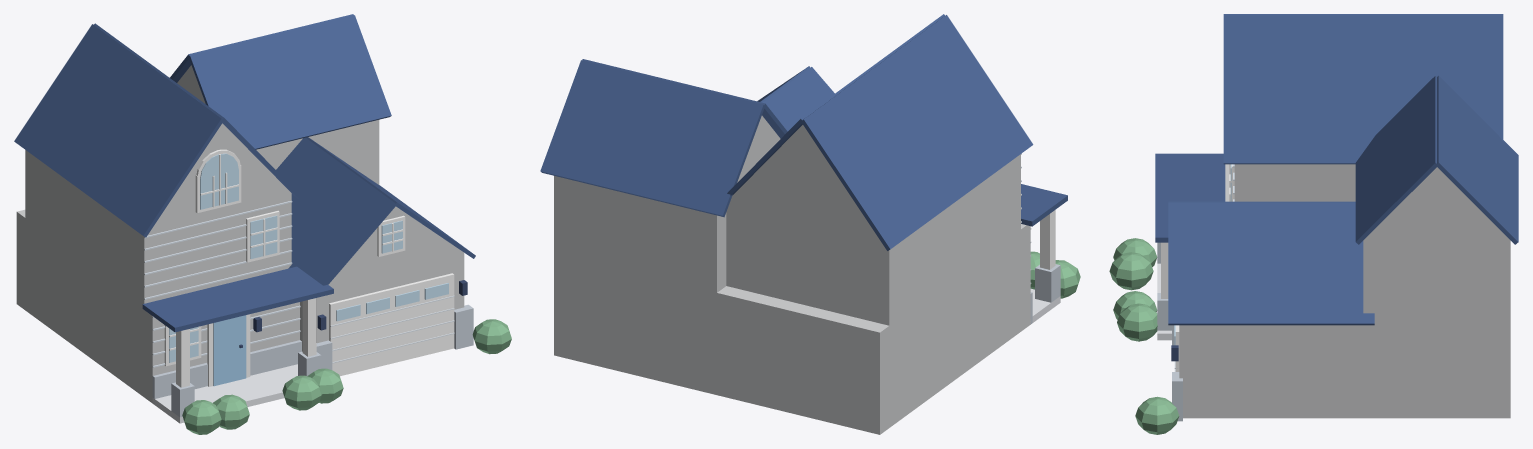
Rendered from rumah baru.fbx.
3 renders of one model, left to right at view 1: azimuth 30°, elevation 25°; view 2: azimuth 150°, elevation 25°; view 3: azimuth 270°, elevation 25°, orthographic. The views are drawn at different scales.
Parts seen in each view (by area): view 1: Rumah_Modern; view 2: Rumah_Modern; view 3: Rumah_Modern.
Boxes of the visible parts, bbox=[...] form: Rumah_Modern: bbox=[14, 14, 511, 434]; Rumah_Modern: bbox=[540, 14, 1080, 434]; Rumah_Modern: bbox=[1109, 14, 1518, 434].
Size of the model in its own units: 1141 by 875 by 1111.
